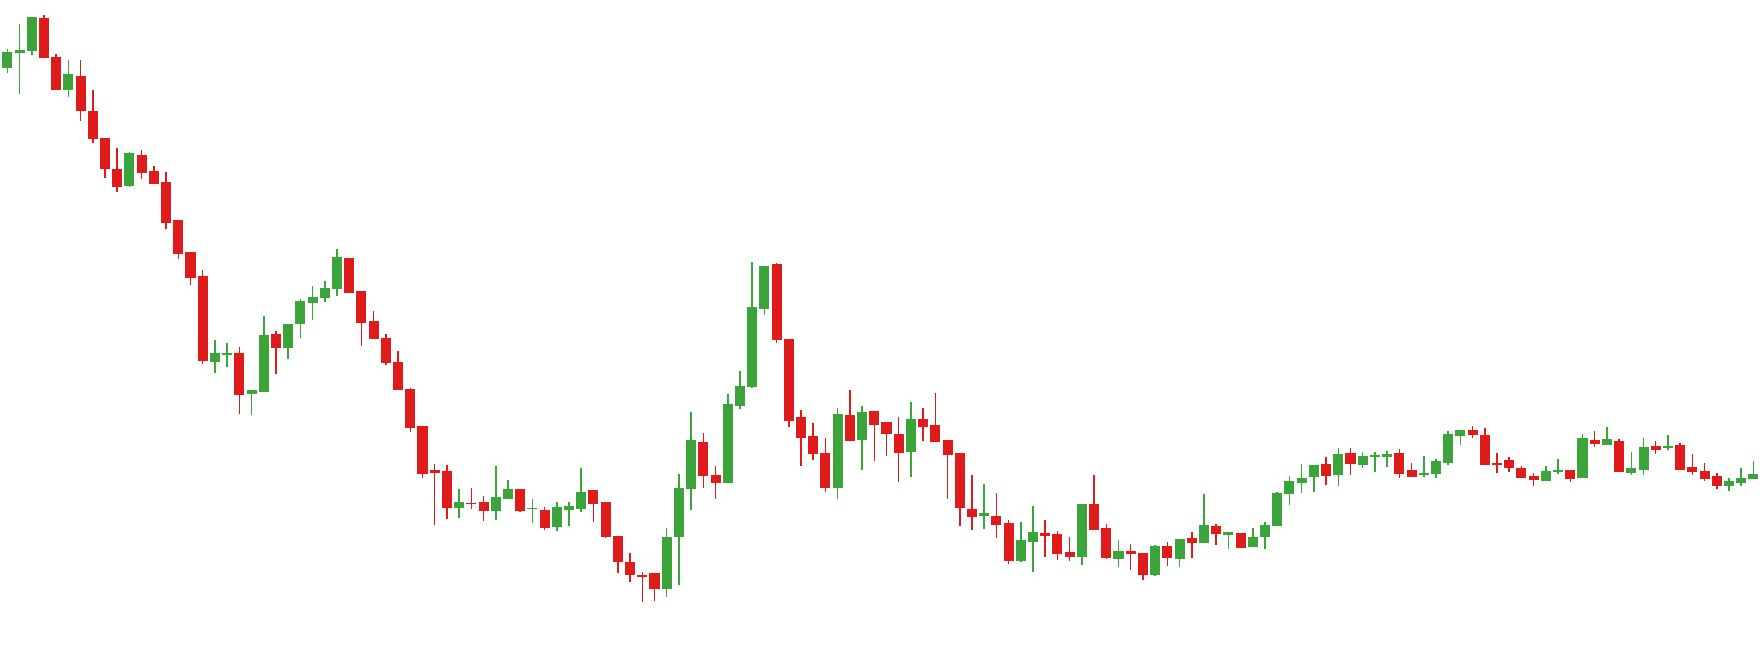sell: (1026, 472, 1098, 547)
